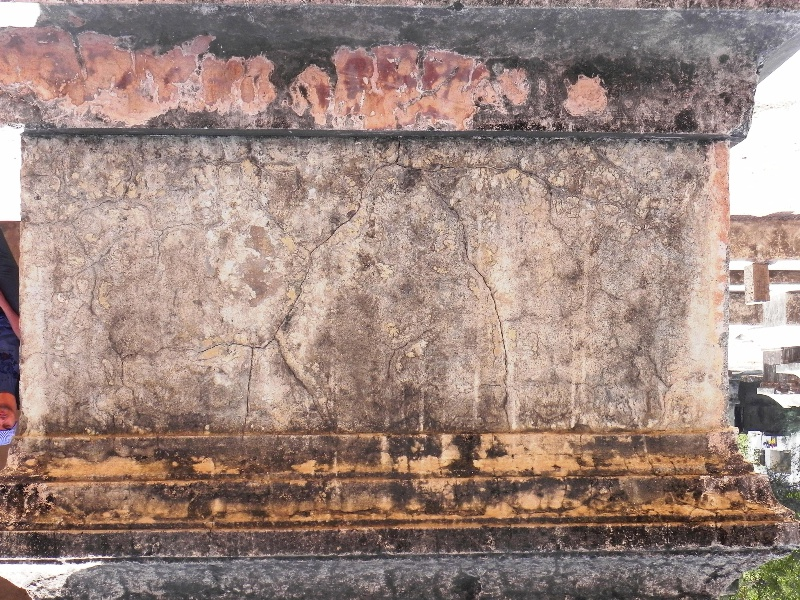Crack: (471, 264, 510, 367)
